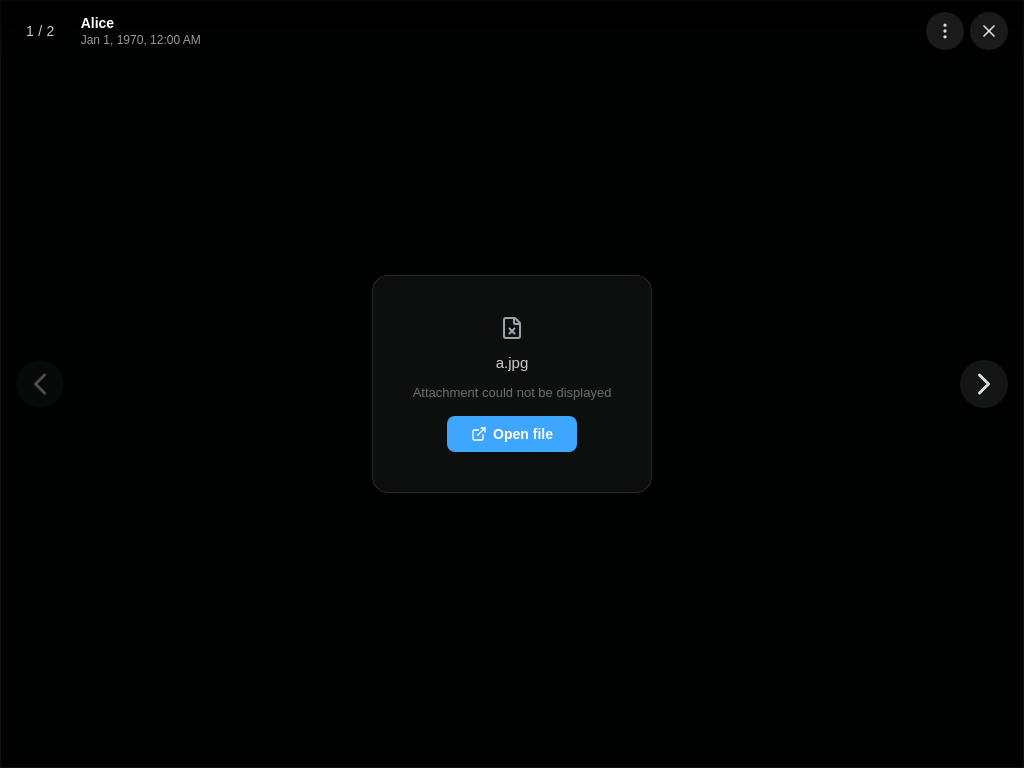
Scenario: unavailable attachments › shows a viewer fallback for a decode failure and clears it on another item
Expected: the text "Attachment could not be displayed" is shown, [413,385,611,400]
Click the button named "Next item".
click(984, 384)  # box [960,360,1008,408]
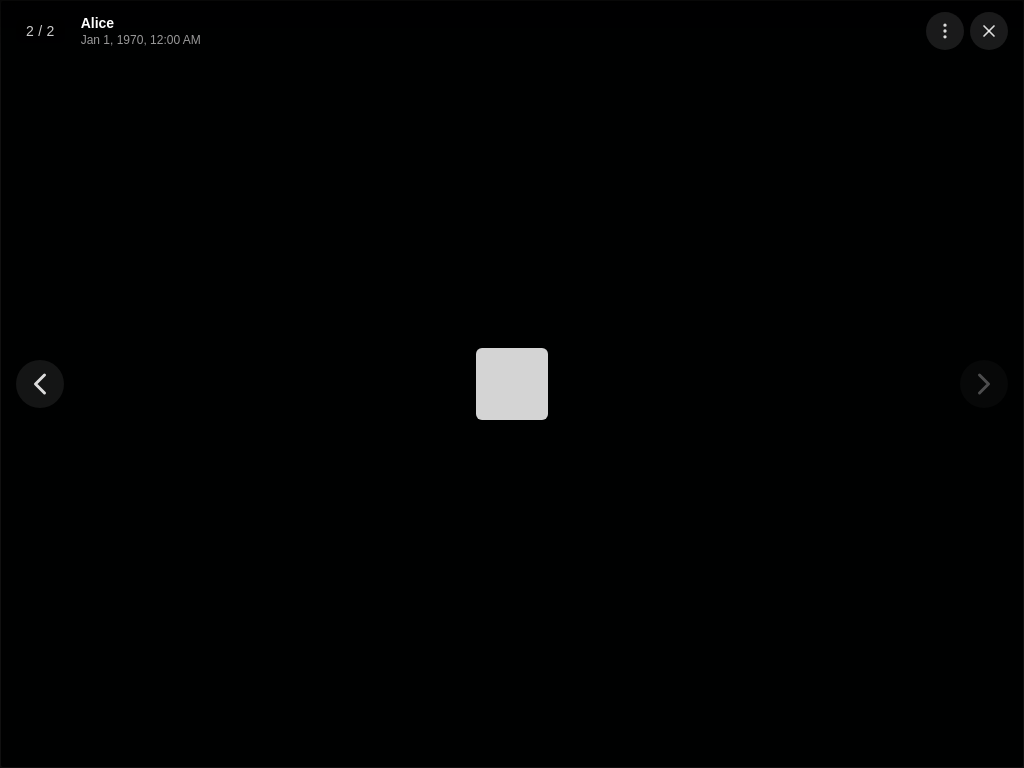
Result: the text "Attachment could not be displayed" is gone
